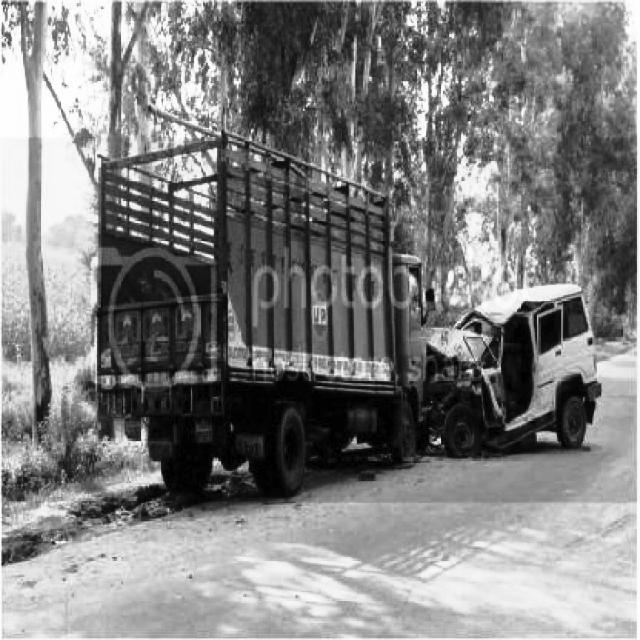HCV: (126, 152, 434, 488)
